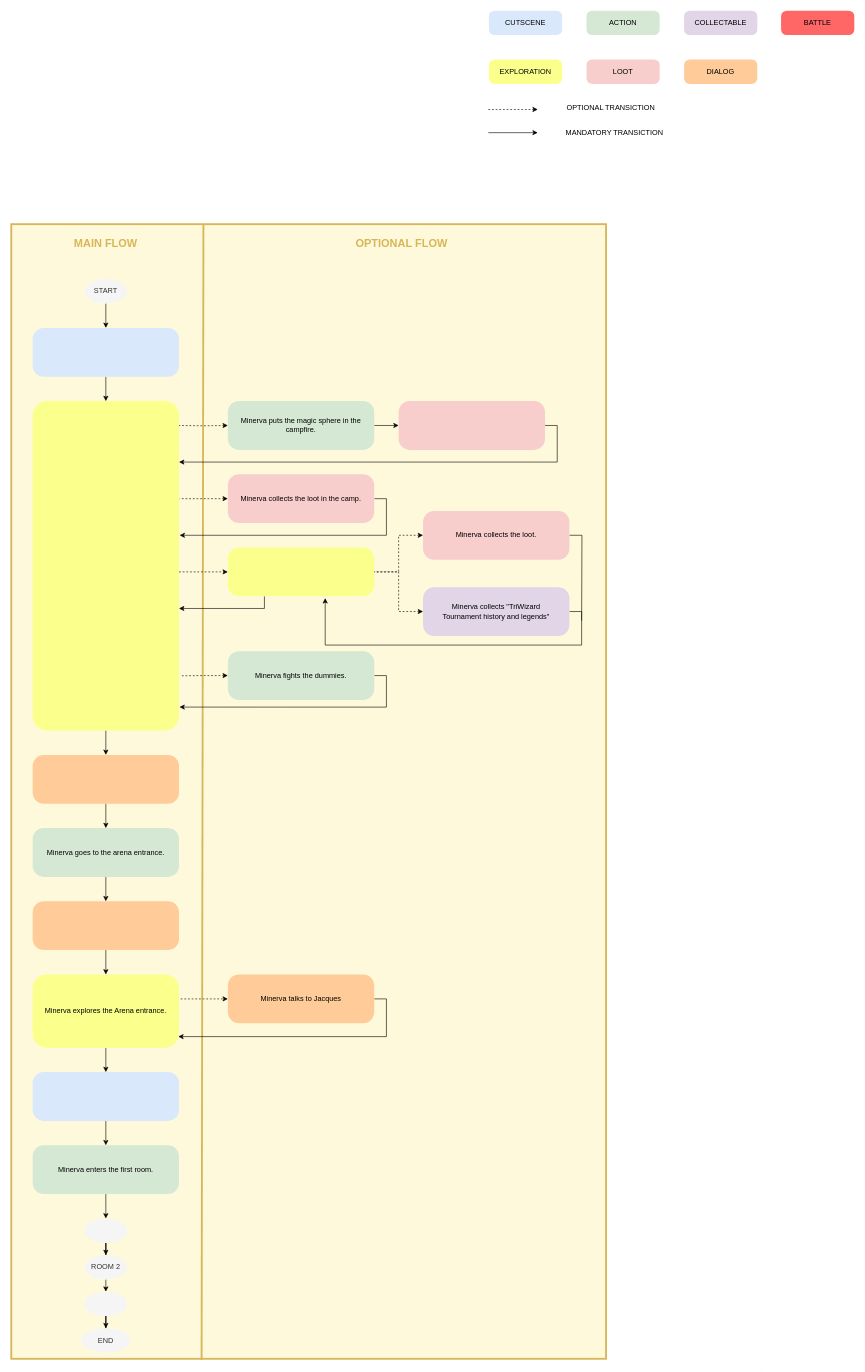
Some shapes in this 865 by 1372 pixel diagram are drawn without their labels. The shapes that lost their labels are listed below. From the top down, each one's box as (x1, y1, x2, y2) in pixels, then its label:
(32, 328, 179, 376): Minerva wakes up in her tent with the magic sphere in her arms.
(398, 401, 545, 450): Minerva obtains the phoenix key.
(32, 401, 179, 730): Minerva explores the Tournament Camp.
(228, 547, 374, 596): Minerva explores the common room.
(32, 755, 179, 803): Albus talks to Minerva.
(32, 901, 179, 950): Astrid talks to Minerva.
(32, 1072, 179, 1121): The announcer makes the second challenge start.
(84, 1218, 127, 1243): ROOM 1
(84, 1291, 127, 1316): ROOM 3
